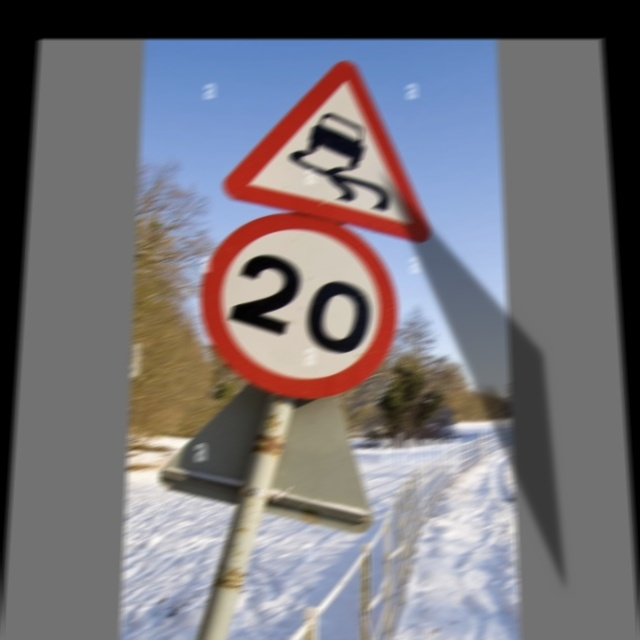Slippery_Road: (229, 61, 425, 230)
